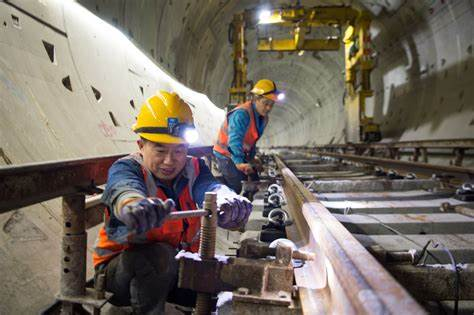safetyhat: (90, 83, 220, 290), (214, 73, 294, 198)
